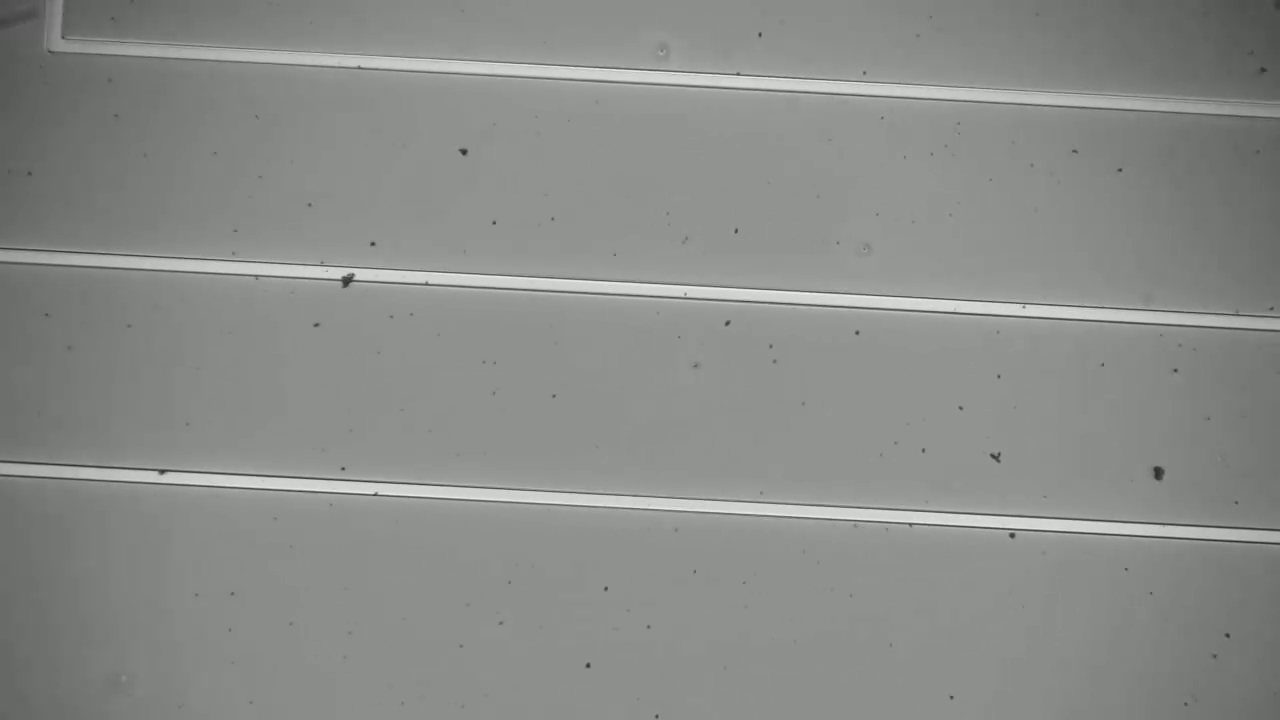stains_enbedded: (325, 260, 362, 297)
